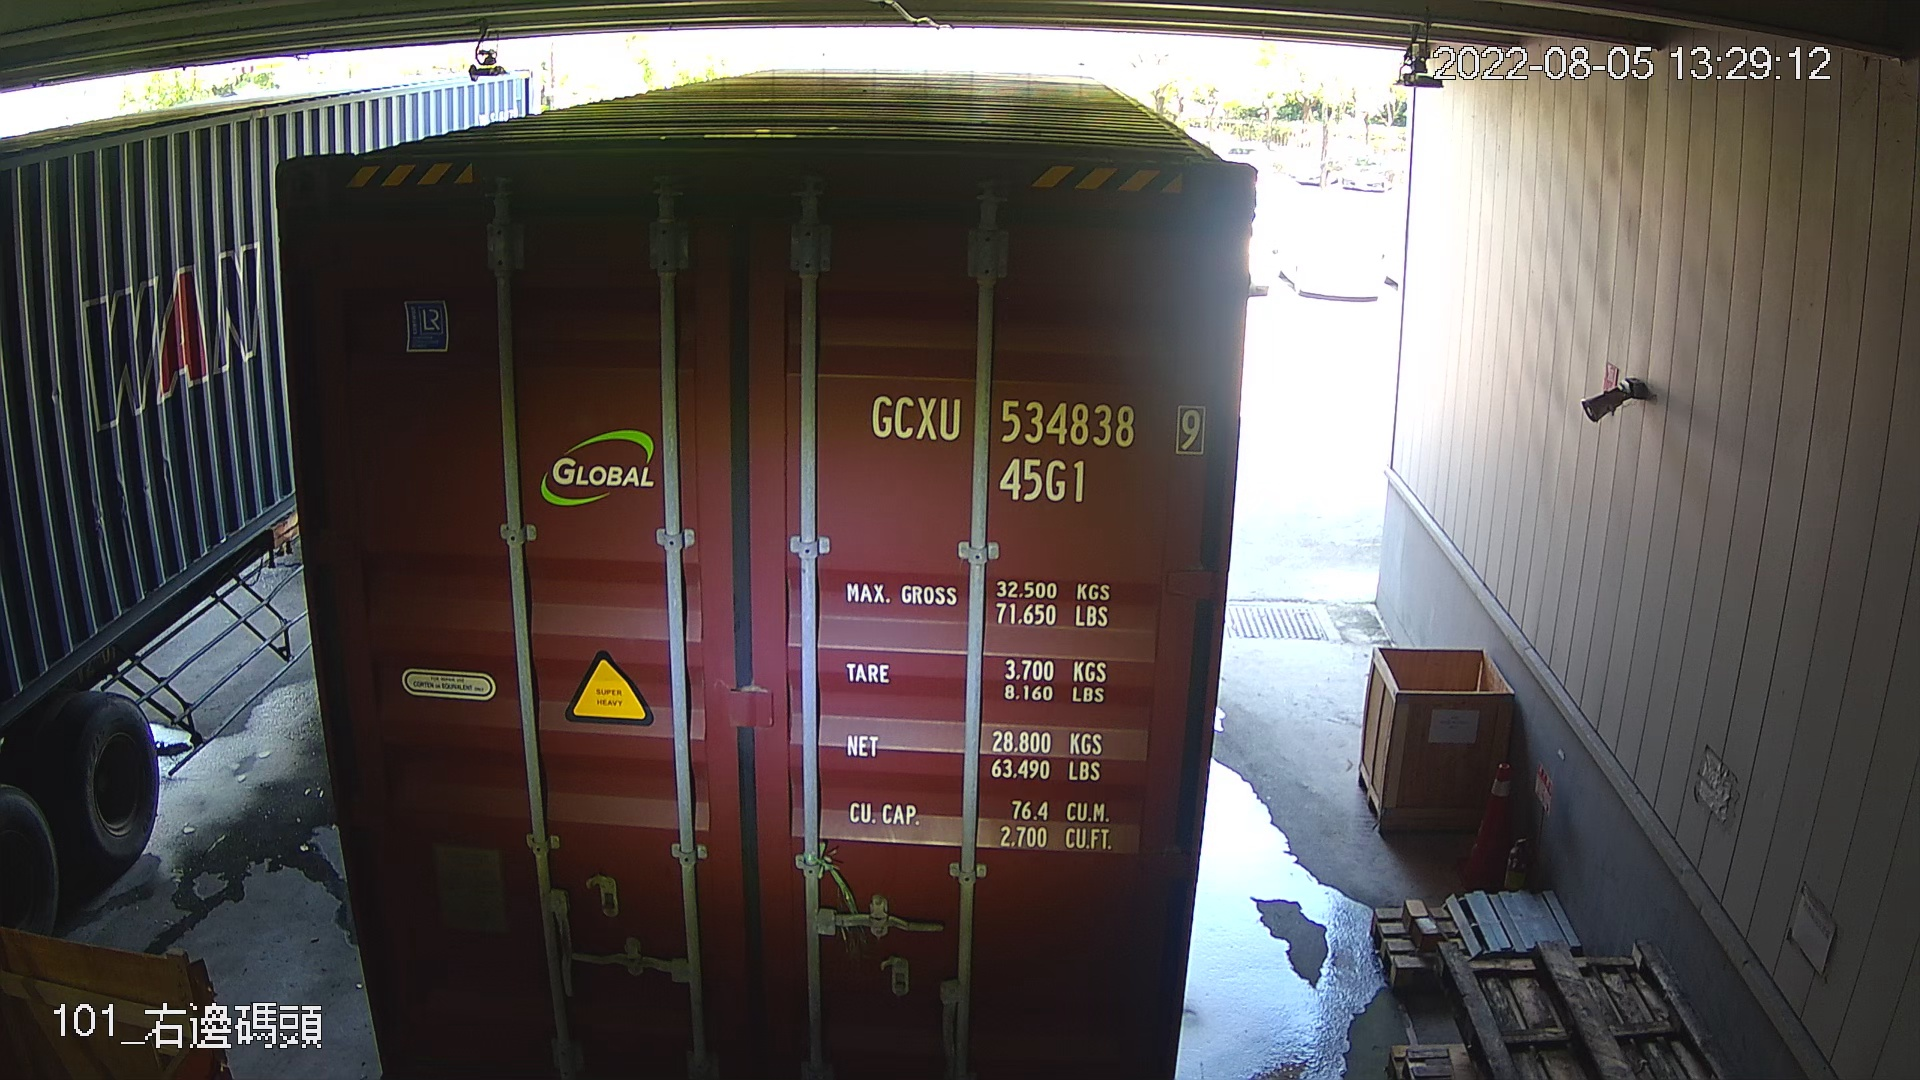container: (860, 375, 1218, 517)
